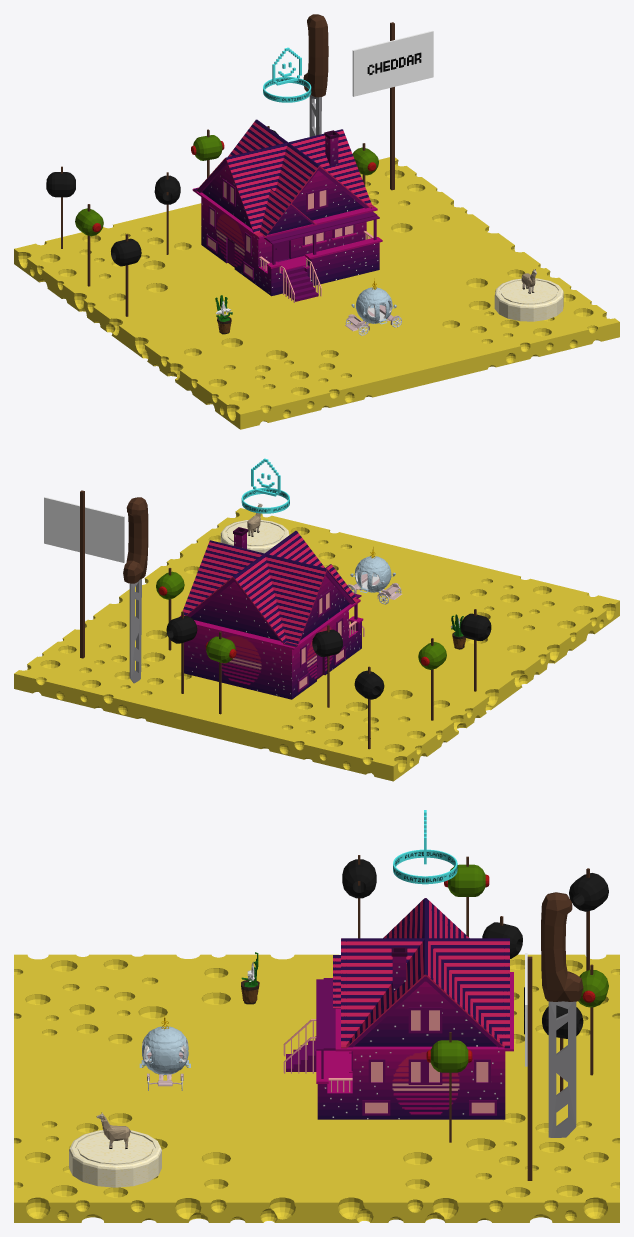
The picture shows the model from 3 angles, top to bottom: view 1: azimuth 30°, elevation 25°; view 2: azimuth 150°, elevation 25°; view 3: azimuth 270°, elevation 25°; orthographic projection. The views are drawn at different scales.
Visible parts, largest first — view 1: Cube.022, Cube.156, Cube.023, Cylinder.016, Cube.024, VEHICLES_FANTASY_CARRIAGE, TYPE_PREMIUM, Sphere.017, Sphere.018, Sphere.016, Sphere.020, Sphere.022 (+1 smaller); view 2: Cube.022, Cube.156, Cube.023, Cube.024, VEHICLES_FANTASY_CARRIAGE, Cylinder.016, TYPE_PREMIUM, Sphere.021, Sphere.017, Sphere.020, Sphere.022, Sphere.016 (+2 smaller); view 3: Cube.022, Cube.156, Cube.024, Cylinder.016, VEHICLES_FANTASY_CARRIAGE, Cube.023, Sphere.019, Sphere.016, TYPE_PREMIUM, Sphere.017, Sphere.018, Sphere.022 (+3 smaller).
Part boxes in pixels (bbox=[...]): Cube.022: bbox=[14, 157, 619, 429]; Cube.156: bbox=[192, 119, 382, 302]; Cube.023: bbox=[352, 22, 433, 190]; Cylinder.016: bbox=[494, 278, 563, 321]; Cube.024: bbox=[303, 14, 328, 136]; VEHICLES_FANTASY_CARRIAGE: bbox=[345, 278, 401, 335]; TYPE_PREMIUM: bbox=[263, 47, 311, 102]; Sphere.017: bbox=[111, 234, 141, 316]; Sphere.018: bbox=[75, 204, 103, 286]; Sphere.016: bbox=[46, 166, 75, 248]; Sphere.020: bbox=[154, 172, 180, 254]; Sphere.022: bbox=[191, 129, 224, 177]; Cube.022: bbox=[14, 508, 619, 781]; Cube.156: bbox=[179, 527, 364, 699]; Cube.023: bbox=[44, 490, 124, 658]; Cube.024: bbox=[123, 497, 148, 683]; VEHICLES_FANTASY_CARRIAGE: bbox=[348, 547, 402, 604]; Cylinder.016: bbox=[220, 520, 289, 553]; TYPE_PREMIUM: bbox=[241, 458, 289, 513]; Sphere.021: bbox=[166, 611, 197, 693]; Sphere.017: bbox=[460, 609, 491, 691]; Sphere.020: bbox=[312, 625, 342, 707]; Sphere.022: bbox=[205, 631, 236, 714]; Sphere.016: bbox=[354, 666, 384, 749]; Cube.022: bbox=[14, 954, 619, 1222]; Cube.156: bbox=[283, 898, 513, 1119]; Cube.024: bbox=[541, 892, 583, 1137]; Cylinder.016: bbox=[69, 1130, 161, 1187]; VEHICLES_FANTASY_CARRIAGE: bbox=[139, 1014, 190, 1090]; Cube.023: bbox=[524, 953, 532, 1180]; Sphere.019: bbox=[426, 1032, 472, 1142]; Sphere.016: bbox=[569, 868, 608, 970]; TYPE_PREMIUM: bbox=[393, 810, 457, 884]; Sphere.017: bbox=[342, 855, 376, 938]; Sphere.018: bbox=[444, 856, 489, 936]; Sphere.022: bbox=[578, 964, 608, 1075].
Bounding box in the file's own units: 3917 × 2224 × 4000.
Materials: 35 (6 with a texture image).
